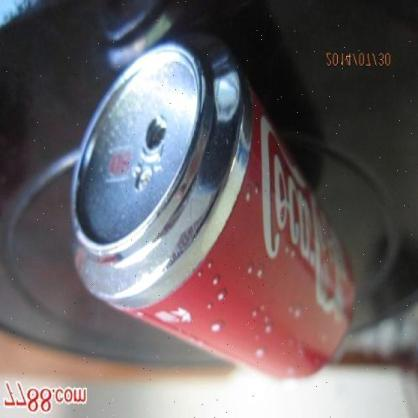can: (75, 40, 357, 385)
